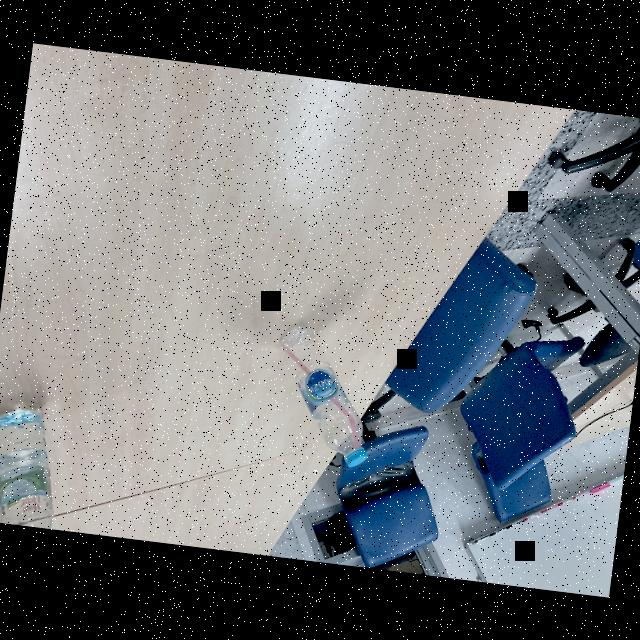plastic_bottle: (261, 321, 385, 471), (0, 401, 66, 529)
plastic_bottle_cap: (342, 443, 368, 469)
straw: (270, 344, 370, 449)
